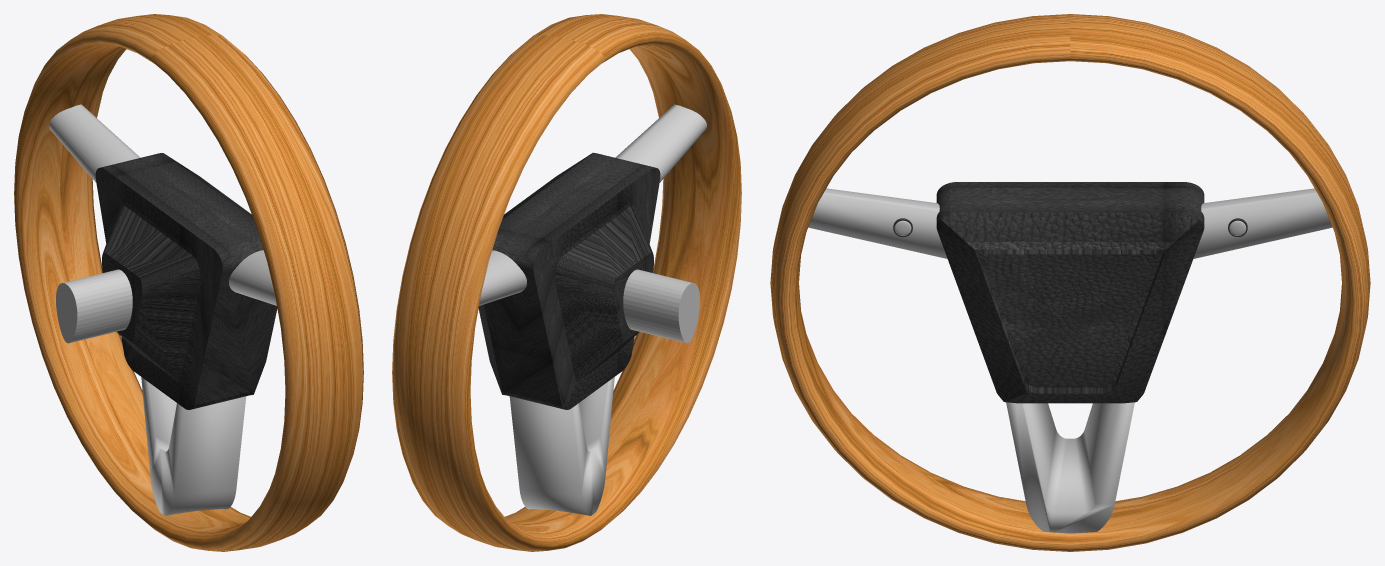
The model's file is volan3.obj.
The picture shows the model from 3 angles, left to right: view 1: azimuth 30°, elevation 25°; view 2: azimuth 150°, elevation 25°; view 3: azimuth 270°, elevation 25°; orthographic projection. The views are drawn at different scales.
Parts seen in each view (by area): view 1: wheel, steeringWheel, underConn, sideConn; view 2: wheel, steeringWheel, underConn, sideConn; view 3: wheel, steeringWheel, underConn, sideConn.
Boxes of the visible parts, <box> form: wheel: <box>14,14,363,551</box>; steeringWheel: <box>56,153,277,409</box>; underConn: <box>141,377,246,515</box>; sideConn: <box>49,104,276,305</box>; wheel: <box>392,14,741,551</box>; steeringWheel: <box>478,152,699,409</box>; underConn: <box>509,377,614,515</box>; sideConn: <box>479,104,706,305</box>; wheel: <box>770,14,1370,551</box>; steeringWheel: <box>936,182,1204,403</box>; underConn: <box>1006,402,1134,533</box>; sideConn: <box>808,188,1332,258</box>.
Bounding box in the file's own units: 0.132 × 0.3447 × 0.3639.
4 materials, 2 textured.
